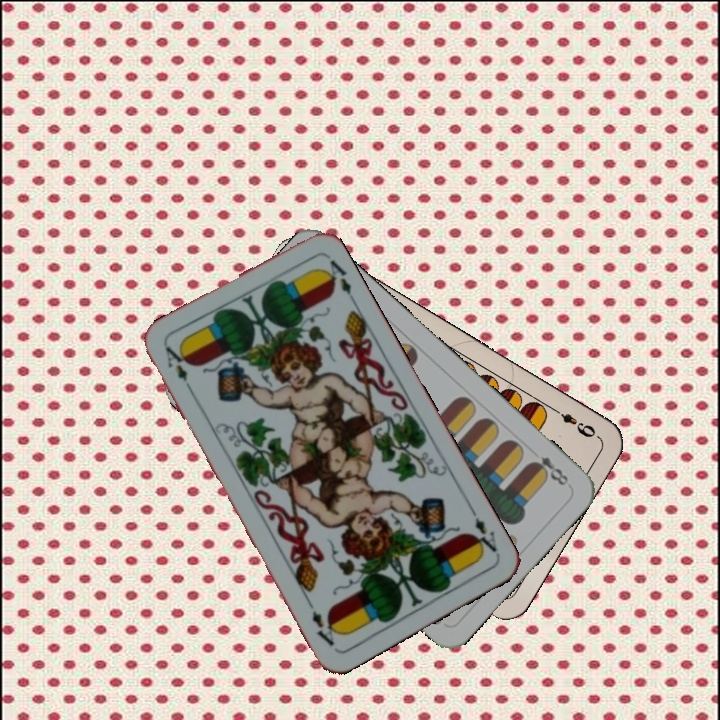E8: (526, 451, 571, 488)
E9: (548, 403, 599, 441)
EA: (466, 503, 501, 559), (161, 342, 196, 397)
